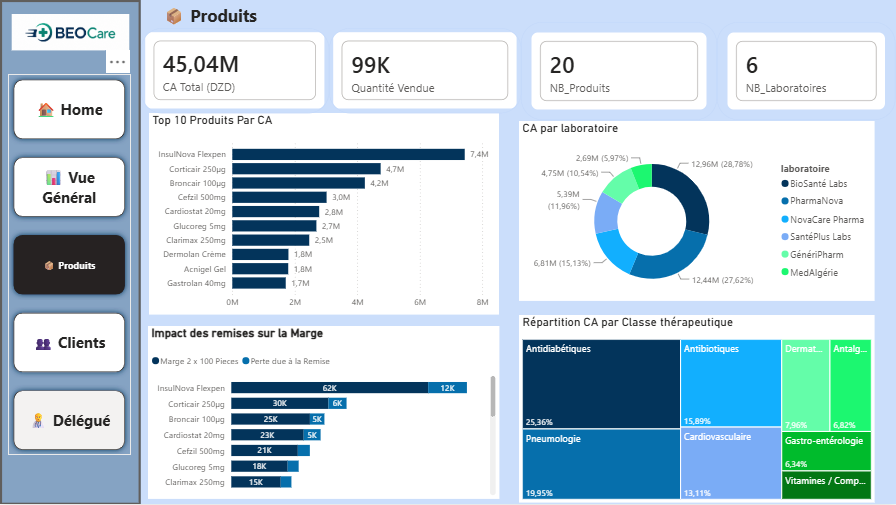

What the dashboard file says about the page in this screenshot:
{"tool":"powerbi","page":{"name":"📦 Produits","canvas":[1280,720],"ordinal":2},"visuals":[{"type":"donutChart","title":"CA par laboratoire","fields":{"Category":["Dim_Produits.laboratoire"],"Y":["Sum(Dim_Produits.CA par laboratoire)"]},"box":[741.7,173.3,508.3,256.7],"z":0},{"type":"barChart","title":"Top 10 Produits Par CA","fields":{"Category":["Dim_Produits.produit"],"Y":["Sum(Dim_Produits.CA)"]},"box":[213.3,161.7,500,288.3],"z":1000},{"type":"actionButton","box":[0,0,201,721.2],"z":2000},{"type":"textbox","box":[226.7,0,158.3,45],"z":3000},{"type":"cardVisual","title":"CA Total (DZD)","fields":{"Data":["Sum(Fait_Ventes.montant_net_dzd)"]},"box":[201.6,40.4,268.9,122],"z":4000},{"type":"cardVisual","fields":{"Data":["Sum(Fait_Ventes.quantite_vendue)"]},"box":[470.3,40.4,274.8,122],"z":5000},{"type":"cardVisual","fields":{"Data":["Dim_Produits.NB_Produits"]},"box":[744.8,31.7,280,140],"z":6000},{"type":"cardVisual","fields":{"Data":["Dim_Produits.NB_Laboratoires"]},"box":[1024.6,31.5,255,140],"z":7000},{"type":"treemap","title":"Répartition CA par Classe thérapeutique","fields":{"Group":["Dim_Produits.classe_therapeutique"],"Values":["Divide(Sum(Dim_Produits.CA), ScopedEval(Sum(Dim_Produits.CA), []))"]},"box":[741.7,450,508.3,268.3],"z":8000},{"type":"barChart","title":"Impact des remises sur la Marge","fields":{"Category":["Dim_Produits.produit"],"Y":["Sum(Dim_Produits.Marge_2_*100_pieces)","Sum(Dim_Produits.Perte_due_à_la_Remise)"]},"box":[211.7,465,501.7,246.7],"z":9000},{"type":"image","box":[5.8,20.2,190,51.7],"z":12000},{"type":"pageNavigator","box":[11.7,105,175,545],"z":13000}]}

Visuals, with their boxes on the page's 1280x720 design canvas (x1, y1, x2, y2). These are canvas units, not pixel positions in the 896x505 screenshot, which may show the page scaled, cropped or inside an application window:
"CA par laboratoire" donutChart: region(742, 173, 1250, 430)
"Top 10 Produits Par CA" barChart: region(213, 162, 713, 450)
actionButton: region(0, 0, 201, 721)
textbox: region(227, 0, 385, 45)
"CA Total (DZD)" cardVisual: region(202, 40, 470, 162)
cardVisual - Sum(Fait_Ventes.quantite_vendue): region(470, 40, 745, 162)
cardVisual - Dim_Produits.NB_Produits: region(745, 32, 1025, 172)
cardVisual - Dim_Produits.NB_Laboratoires: region(1025, 32, 1280, 172)
"Répartition CA par Classe thérapeutique" treemap: region(742, 450, 1250, 718)
"Impact des remises sur la Marge" barChart: region(212, 465, 713, 712)
image: region(6, 20, 196, 72)
pageNavigator: region(12, 105, 187, 650)
